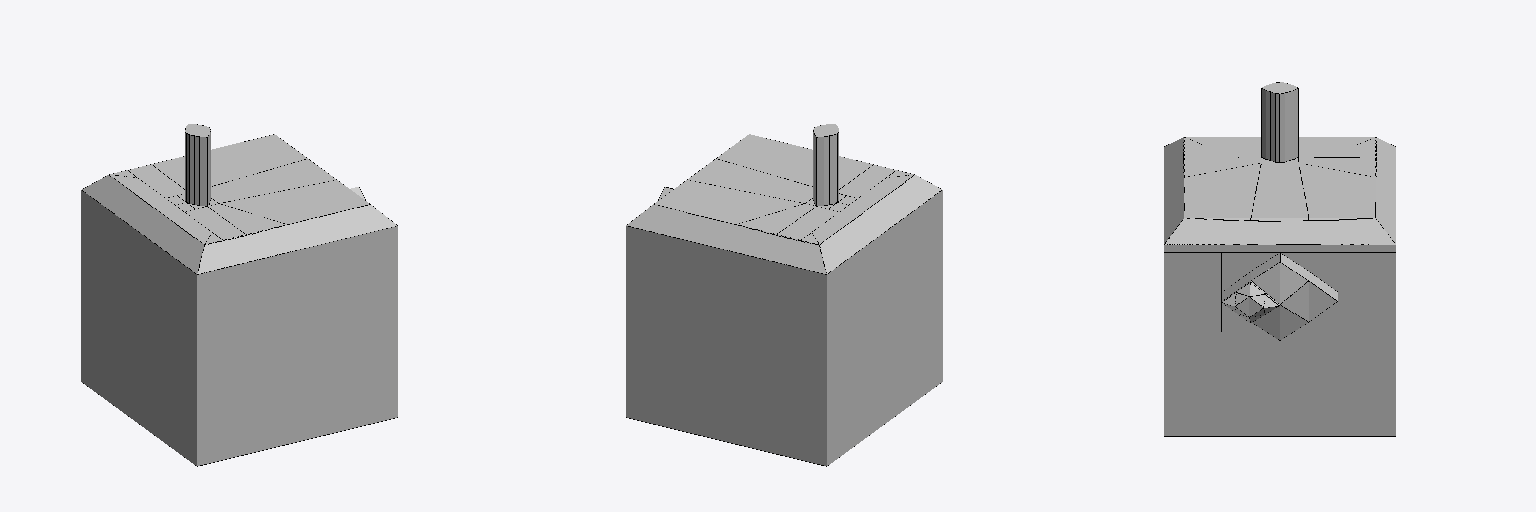
The picture shows the model from 3 angles: view 1: azimuth 30°, elevation 25°; view 2: azimuth 150°, elevation 25°; view 3: azimuth 270°, elevation 25°; orthographic projection.
Parts seen in each view (by area): view 1: head_1_Cube.002; view 2: head_1_Cube.002; view 3: head_1_Cube.002.
Boxes of the visible parts, <box> form: head_1_Cube.002: <box>81,124,397,466</box>; head_1_Cube.002: <box>626,124,942,466</box>; head_1_Cube.002: <box>1164,82,1395,436</box>.
Bounding box in the file's own units: 2.32 × 2.66 × 2.
Materials: 1 (1 with a texture image).